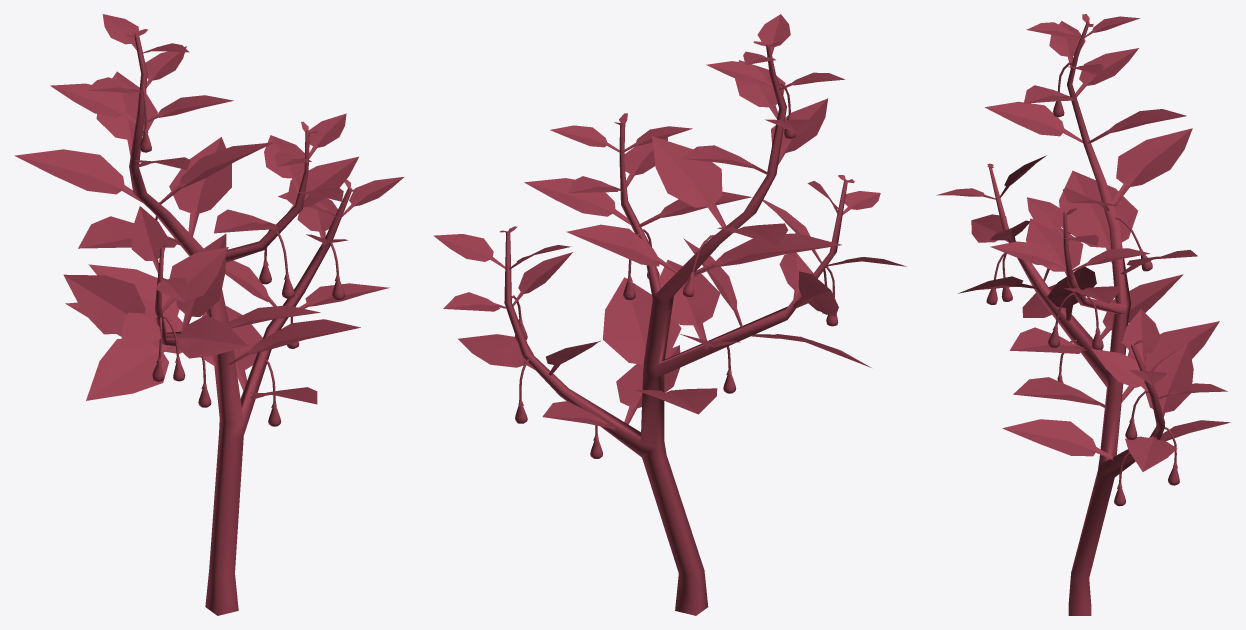
The model's file is SM_Blooddrop_Growing6.fbx.
3 renders of one model, left to right at view 1: azimuth 30°, elevation 25°; view 2: azimuth 150°, elevation 25°; view 3: azimuth 270°, elevation 25°, orthographic. The views are drawn at different scales.
Visible parts, largest first — view 1: SM_Blooddrop_Growing6; view 2: SM_Blooddrop_Growing6; view 3: SM_Blooddrop_Growing6.
Boxes of the visible parts, x1=… form: SM_Blooddrop_Growing6: x1=14, y1=14, x2=404, y2=615; SM_Blooddrop_Growing6: x1=433, y1=14, x2=906, y2=615; SM_Blooddrop_Growing6: x1=936, y1=14, x2=1230, y2=615.
Bounding box in the file's own units: 55.38 × 82.49 × 39.84.
